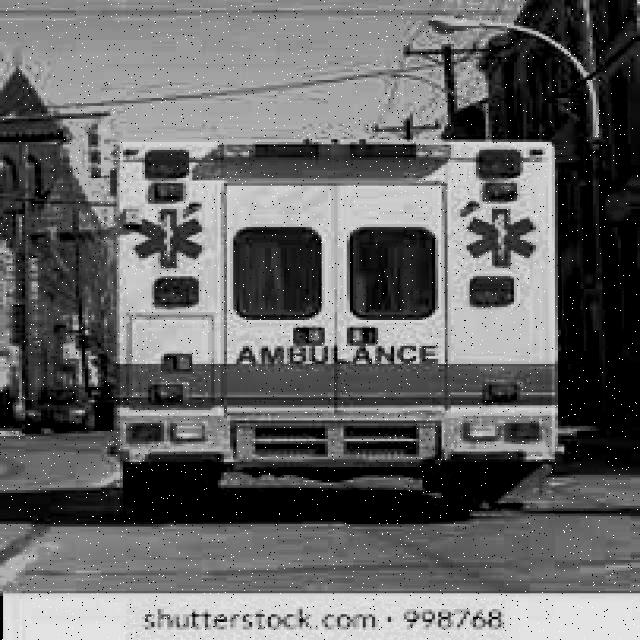LCV: (119, 140, 562, 458)
